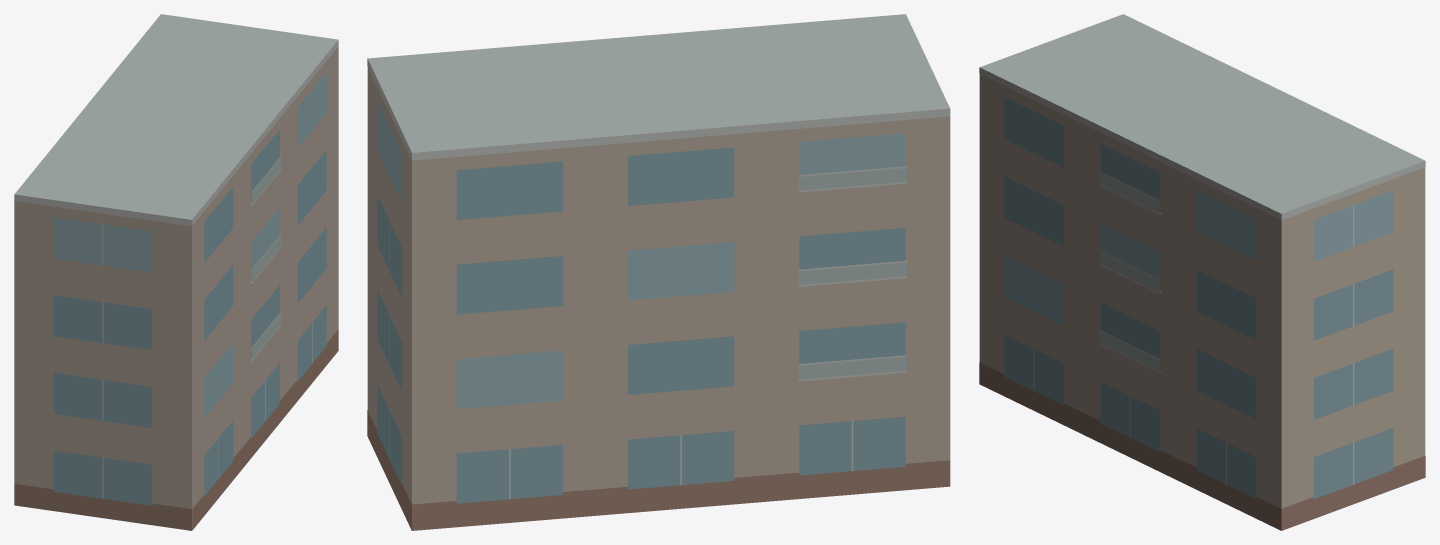
Rendered from survey-upis-32846146.glb.
The picture shows the model from 3 angles, left to right: view 1: azimuth 30°, elevation 25°; view 2: azimuth 150°, elevation 25°; view 3: azimuth 270°, elevation 25°; orthographic projection. The views are drawn at different scales.
Visible parts, largest first — view 1: survey-upis-32846146.tmp; view 2: survey-upis-32846146.tmp; view 3: survey-upis-32846146.tmp.
Part boxes in pixels (bbox=[...]): survey-upis-32846146.tmp: bbox=[14, 14, 338, 530]; survey-upis-32846146.tmp: bbox=[367, 14, 950, 530]; survey-upis-32846146.tmp: bbox=[979, 14, 1425, 530].
Bounding box in the file's own units: 16.1 × 11.9 × 15.18.
